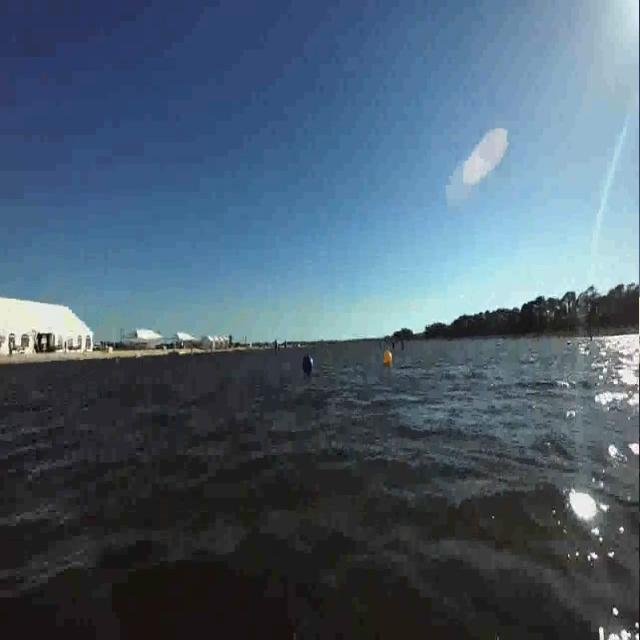black-buoy: (299, 347, 316, 376)
yellow-buoy: (381, 352, 402, 370)
